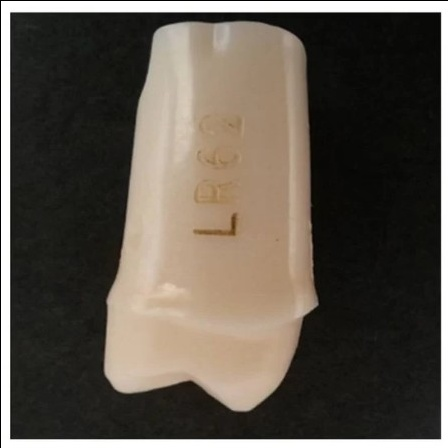coin_1: (303, 318, 323, 338)
coin_2: (288, 371, 308, 391)
coin_3: (108, 299, 128, 319)
coin_4: (106, 370, 126, 390)
